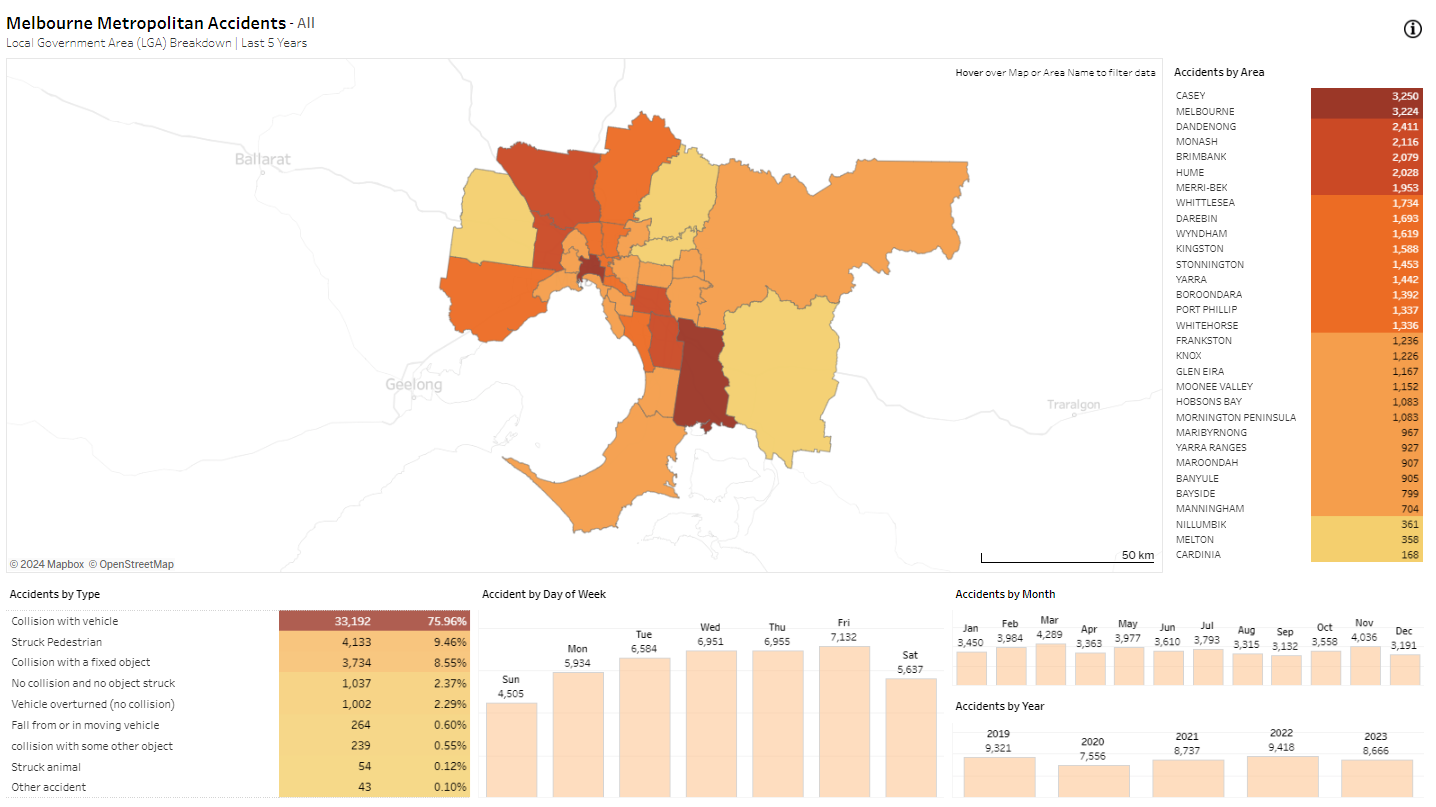

The page's visual inventory and layout, read from the dashboard file:
{"tool":"tableau","page":{"name":"Dashboard","canvas":[1600,900],"ordinal":0},"visuals":[{"type":"worksheet","title":"--show filter on Title","mark":"Square","cols":["Accident Time - 3hr am pm (copy)_1629177216572026888"],"box":[327,7,440,37]},{"type":"title","box":[8,8,1584,64]},{"type":"image","param":"Image/white-tableau.png","box":[959,16,388,37]},{"type":"worksheet","title":"--ref Tooltip","mark":"Shape","box":[1556,20,39,25]},{"type":"worksheet","title":"Vehicle Types in Accidents by Time","mark":"Square","cols":["Accident Time - 3hr am pm (copy)_1629177216572026888"],"box":[1163,27,114,8]},{"type":"worksheet","title":"Accidents by Time","mark":"Square","cols":["Accident Time - 3hr am pm (copy)_1629177216572026888"],"box":[1199,29,82,14]},{"type":"text","box":[987,71,303,20]},{"type":"worksheet","title":"MEL Map","mark":"Automatic","box":[8,72,1294,573.2]},{"type":"worksheet","title":"Total accidents by lga","mark":"Square","rows":["Calculation_1554586347952521220"],"box":[1302,72,290,573.2]},{"type":"worksheet","title":"Accidents by Type","mark":"Square","rows":["ACCIDENT_TYPE"],"box":[8,645.2,525,246.8]},{"type":"worksheet","title":"Accident by Day of Week","mark":"Bar","rows":["ACCIDENT_NO"],"cols":["DAY_OF_WEEK"],"box":[533,645.2,526,246.8]},{"type":"worksheet","title":"Accidents by Month","mark":"Bar","rows":["ACCIDENT_NO"],"cols":["ACCIDENT_DATE"],"box":[1059,645.2,533,123.4]},{"type":"worksheet","title":"Accidents by Year","mark":"Bar","rows":["ACCIDENT_NO"],"cols":["ACCIDENT_DATE"],"box":[1059,768.6,533,123.4]}]}

Visuals, with their boxes in screenshot pixels (x1, y1, x2, y2), scaled from the page's 1600x900 canvas onto the 1436x807 screenshot:
"--show filter on Title" worksheet (Square marks): region(293, 6, 688, 39)
title: region(7, 7, 1429, 65)
image: region(861, 14, 1209, 48)
"--ref Tooltip" worksheet (Shape marks): region(1397, 18, 1432, 40)
"Vehicle Types in Accidents by Time" worksheet (Square marks): region(1044, 24, 1146, 31)
"Accidents by Time" worksheet (Square marks): region(1076, 26, 1150, 39)
text: region(886, 64, 1158, 82)
"MEL Map" worksheet: region(7, 65, 1169, 579)
"Total accidents by lga" worksheet (Square marks): region(1169, 65, 1429, 579)
"Accidents by Type" worksheet (Square marks): region(7, 579, 478, 800)
"Accident by Day of Week" worksheet (Bar marks): region(478, 579, 950, 800)
"Accidents by Month" worksheet (Bar marks): region(950, 579, 1429, 689)
"Accidents by Year" worksheet (Bar marks): region(950, 689, 1429, 800)
